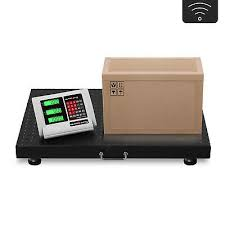Industrial Scale: (15, 88, 211, 166)
